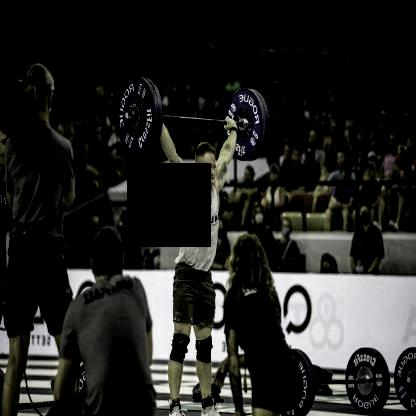barbell: (114, 77, 153, 157)
